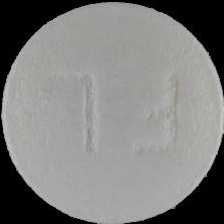0456-1525: (0, 0, 224, 224)
